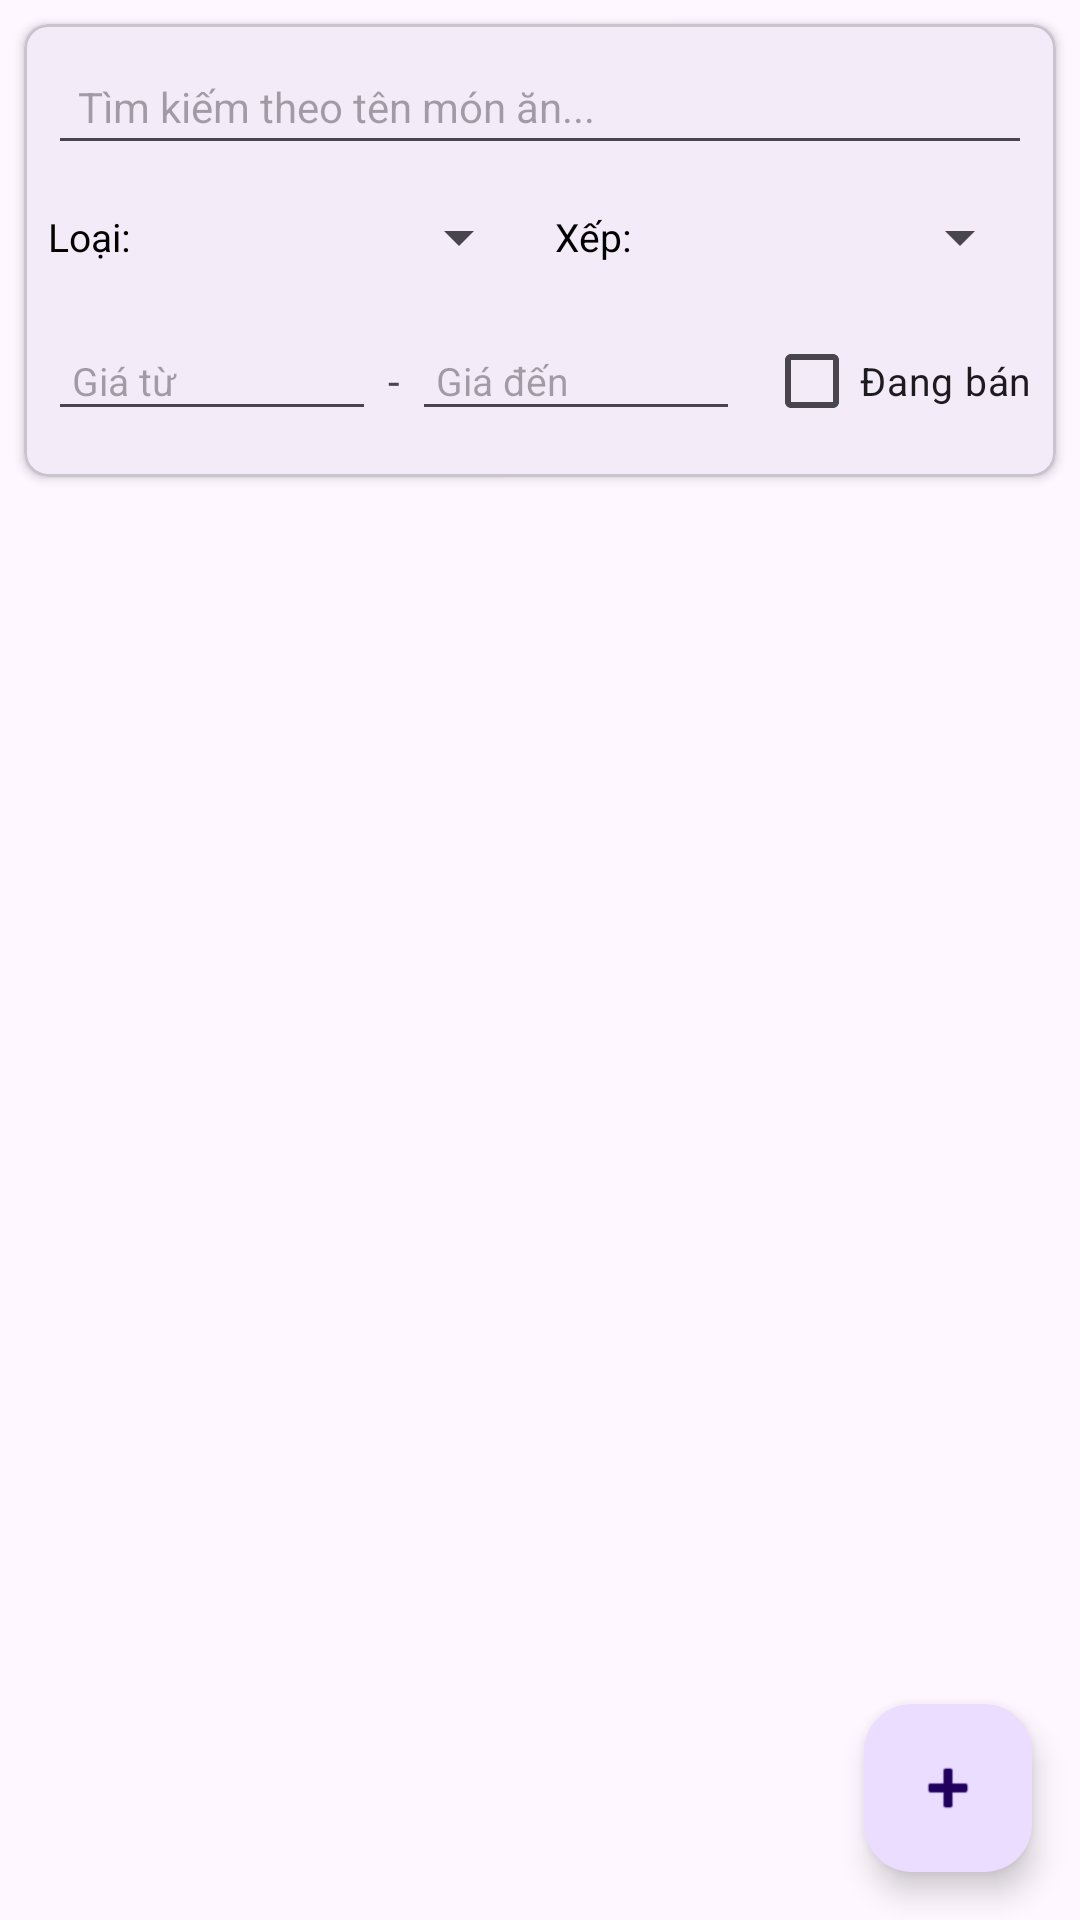

Screen size 1080 × 1920. Icon name, then its center in pixels as (x,y):
Thêm món ăn: (948,1788)
